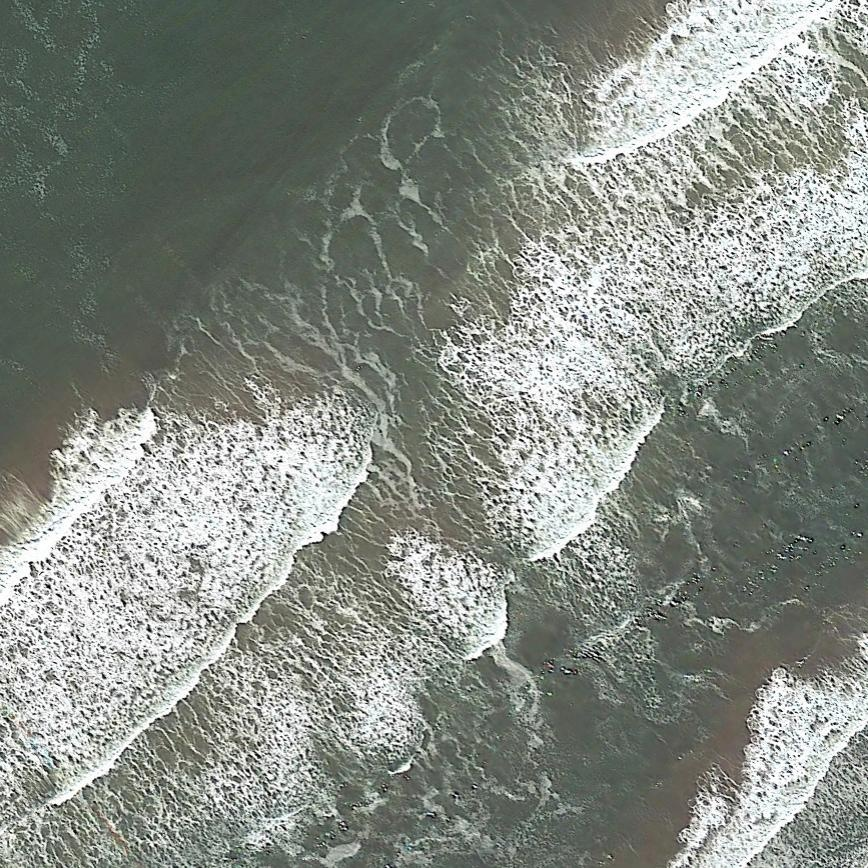rip_current: (205, 217, 580, 597)
